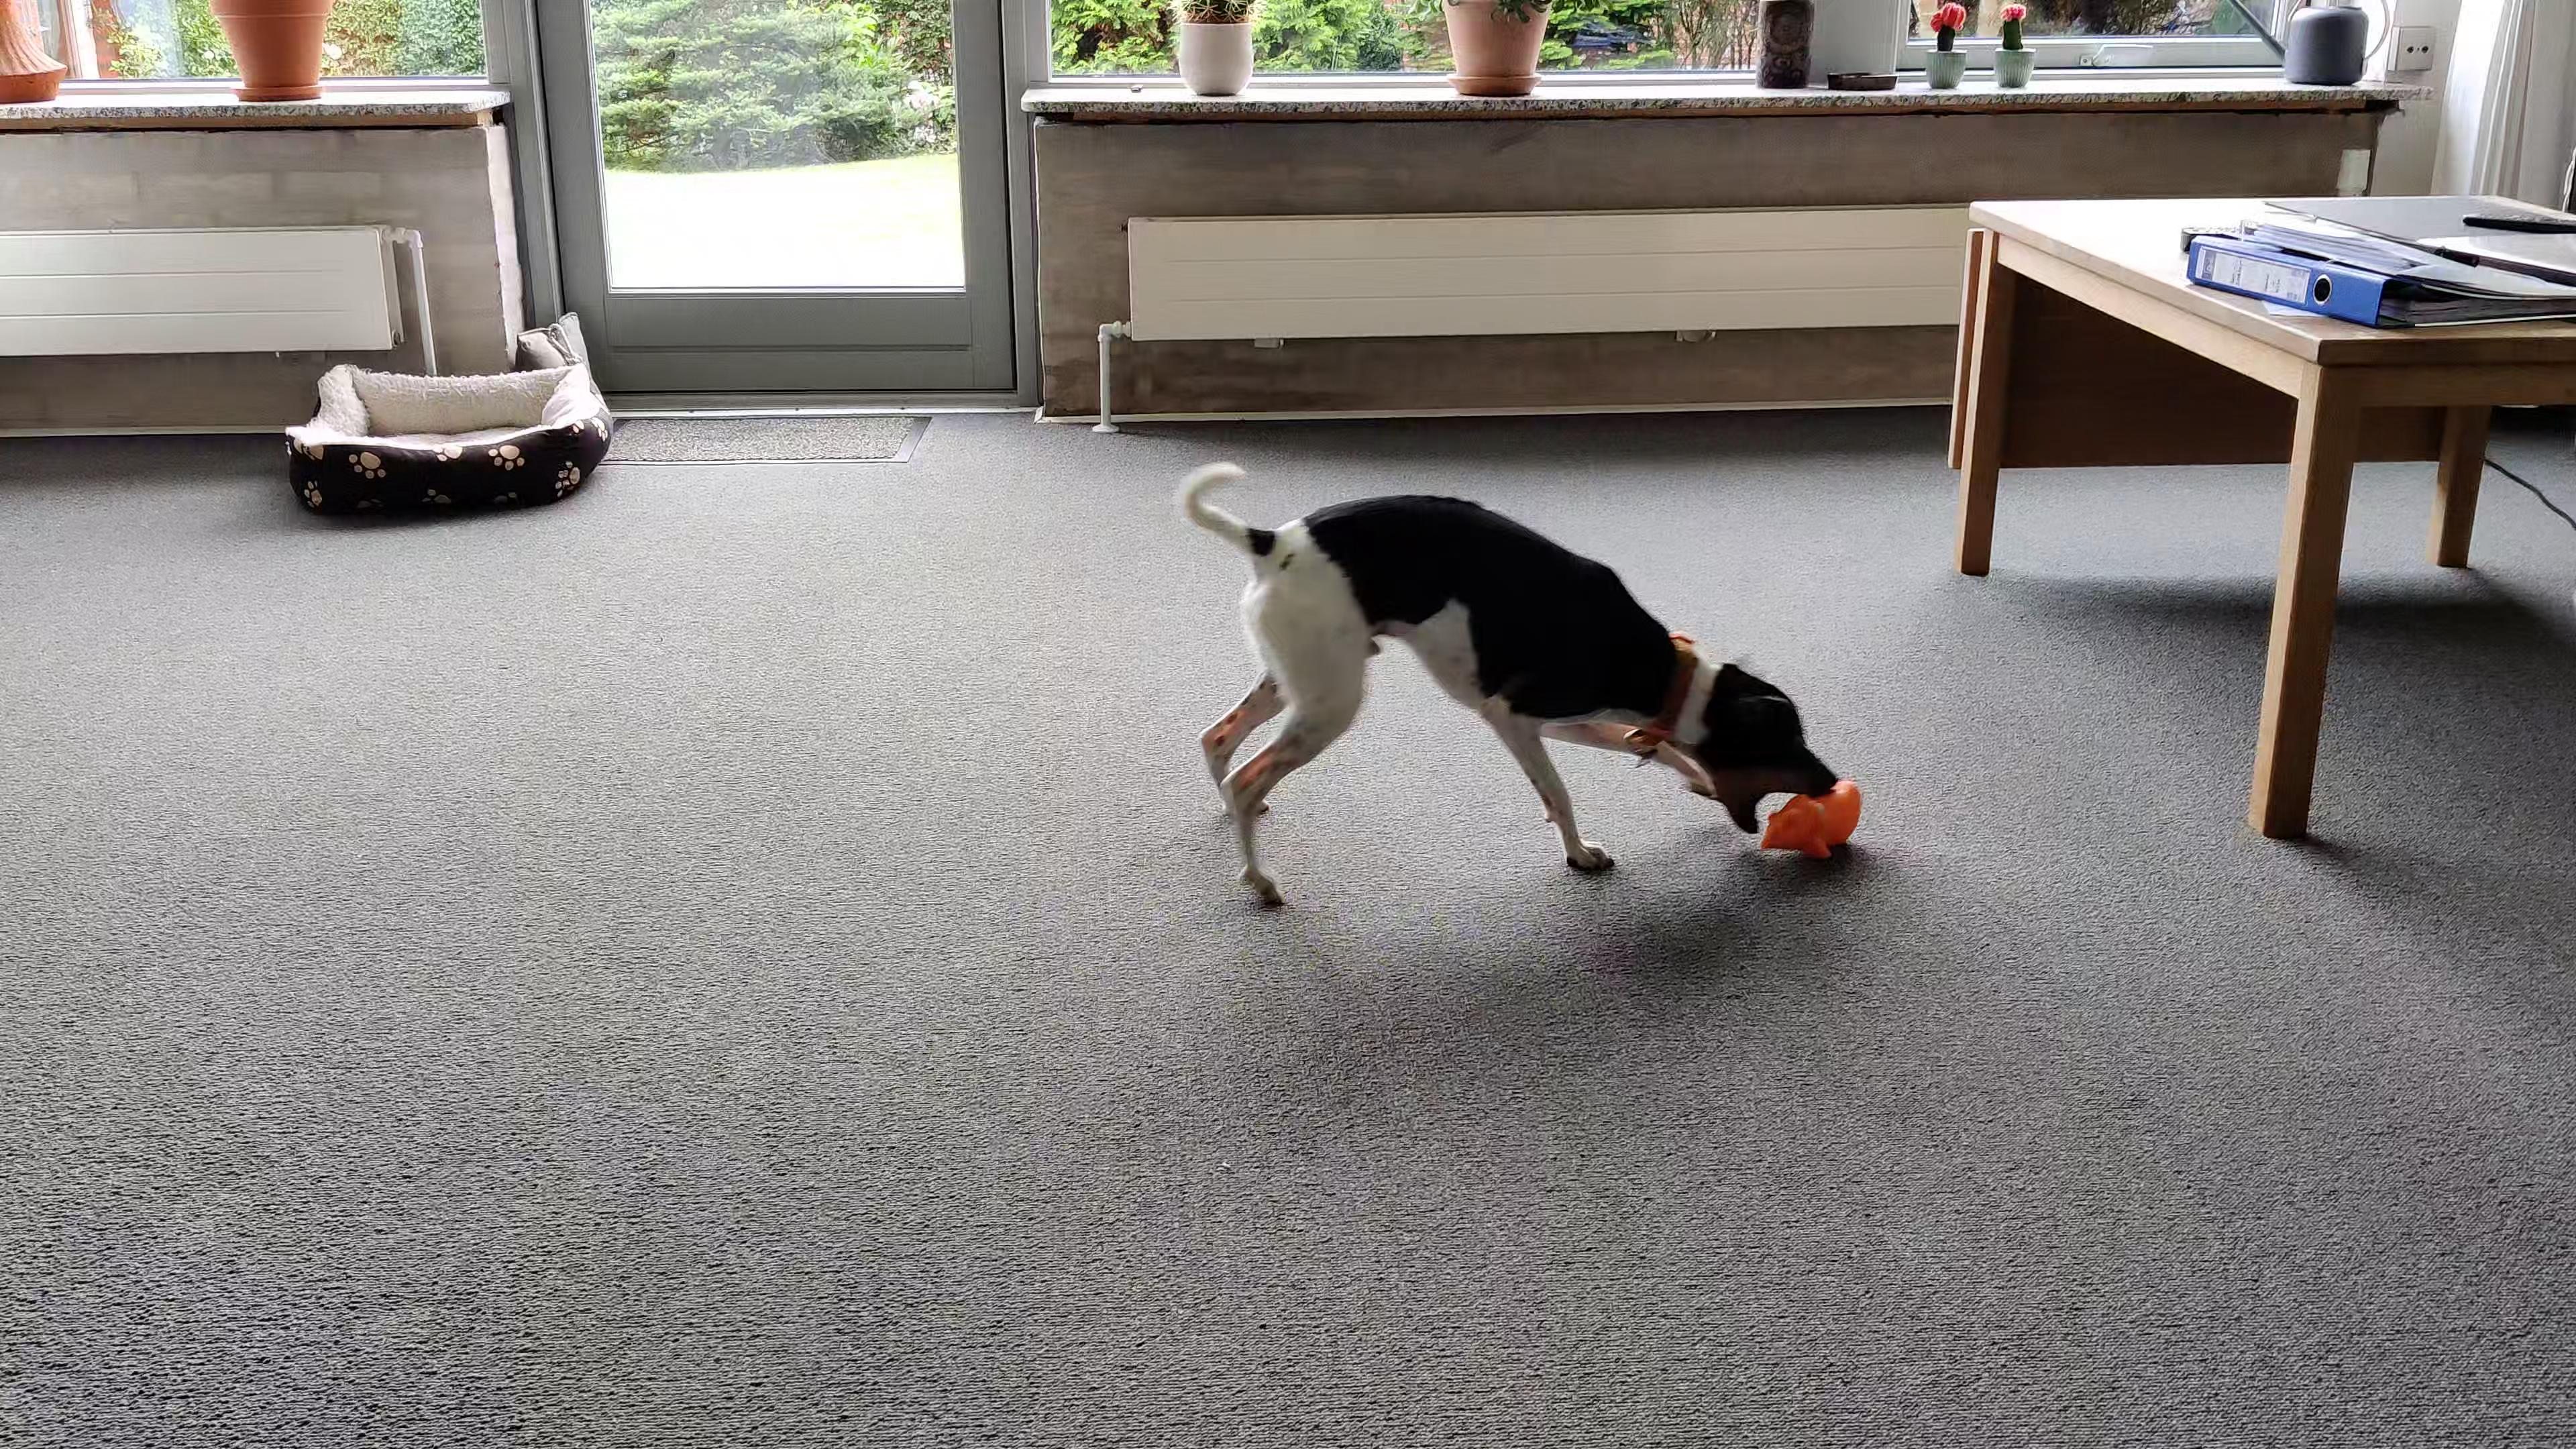Dog: (1168, 455, 1840, 911)
